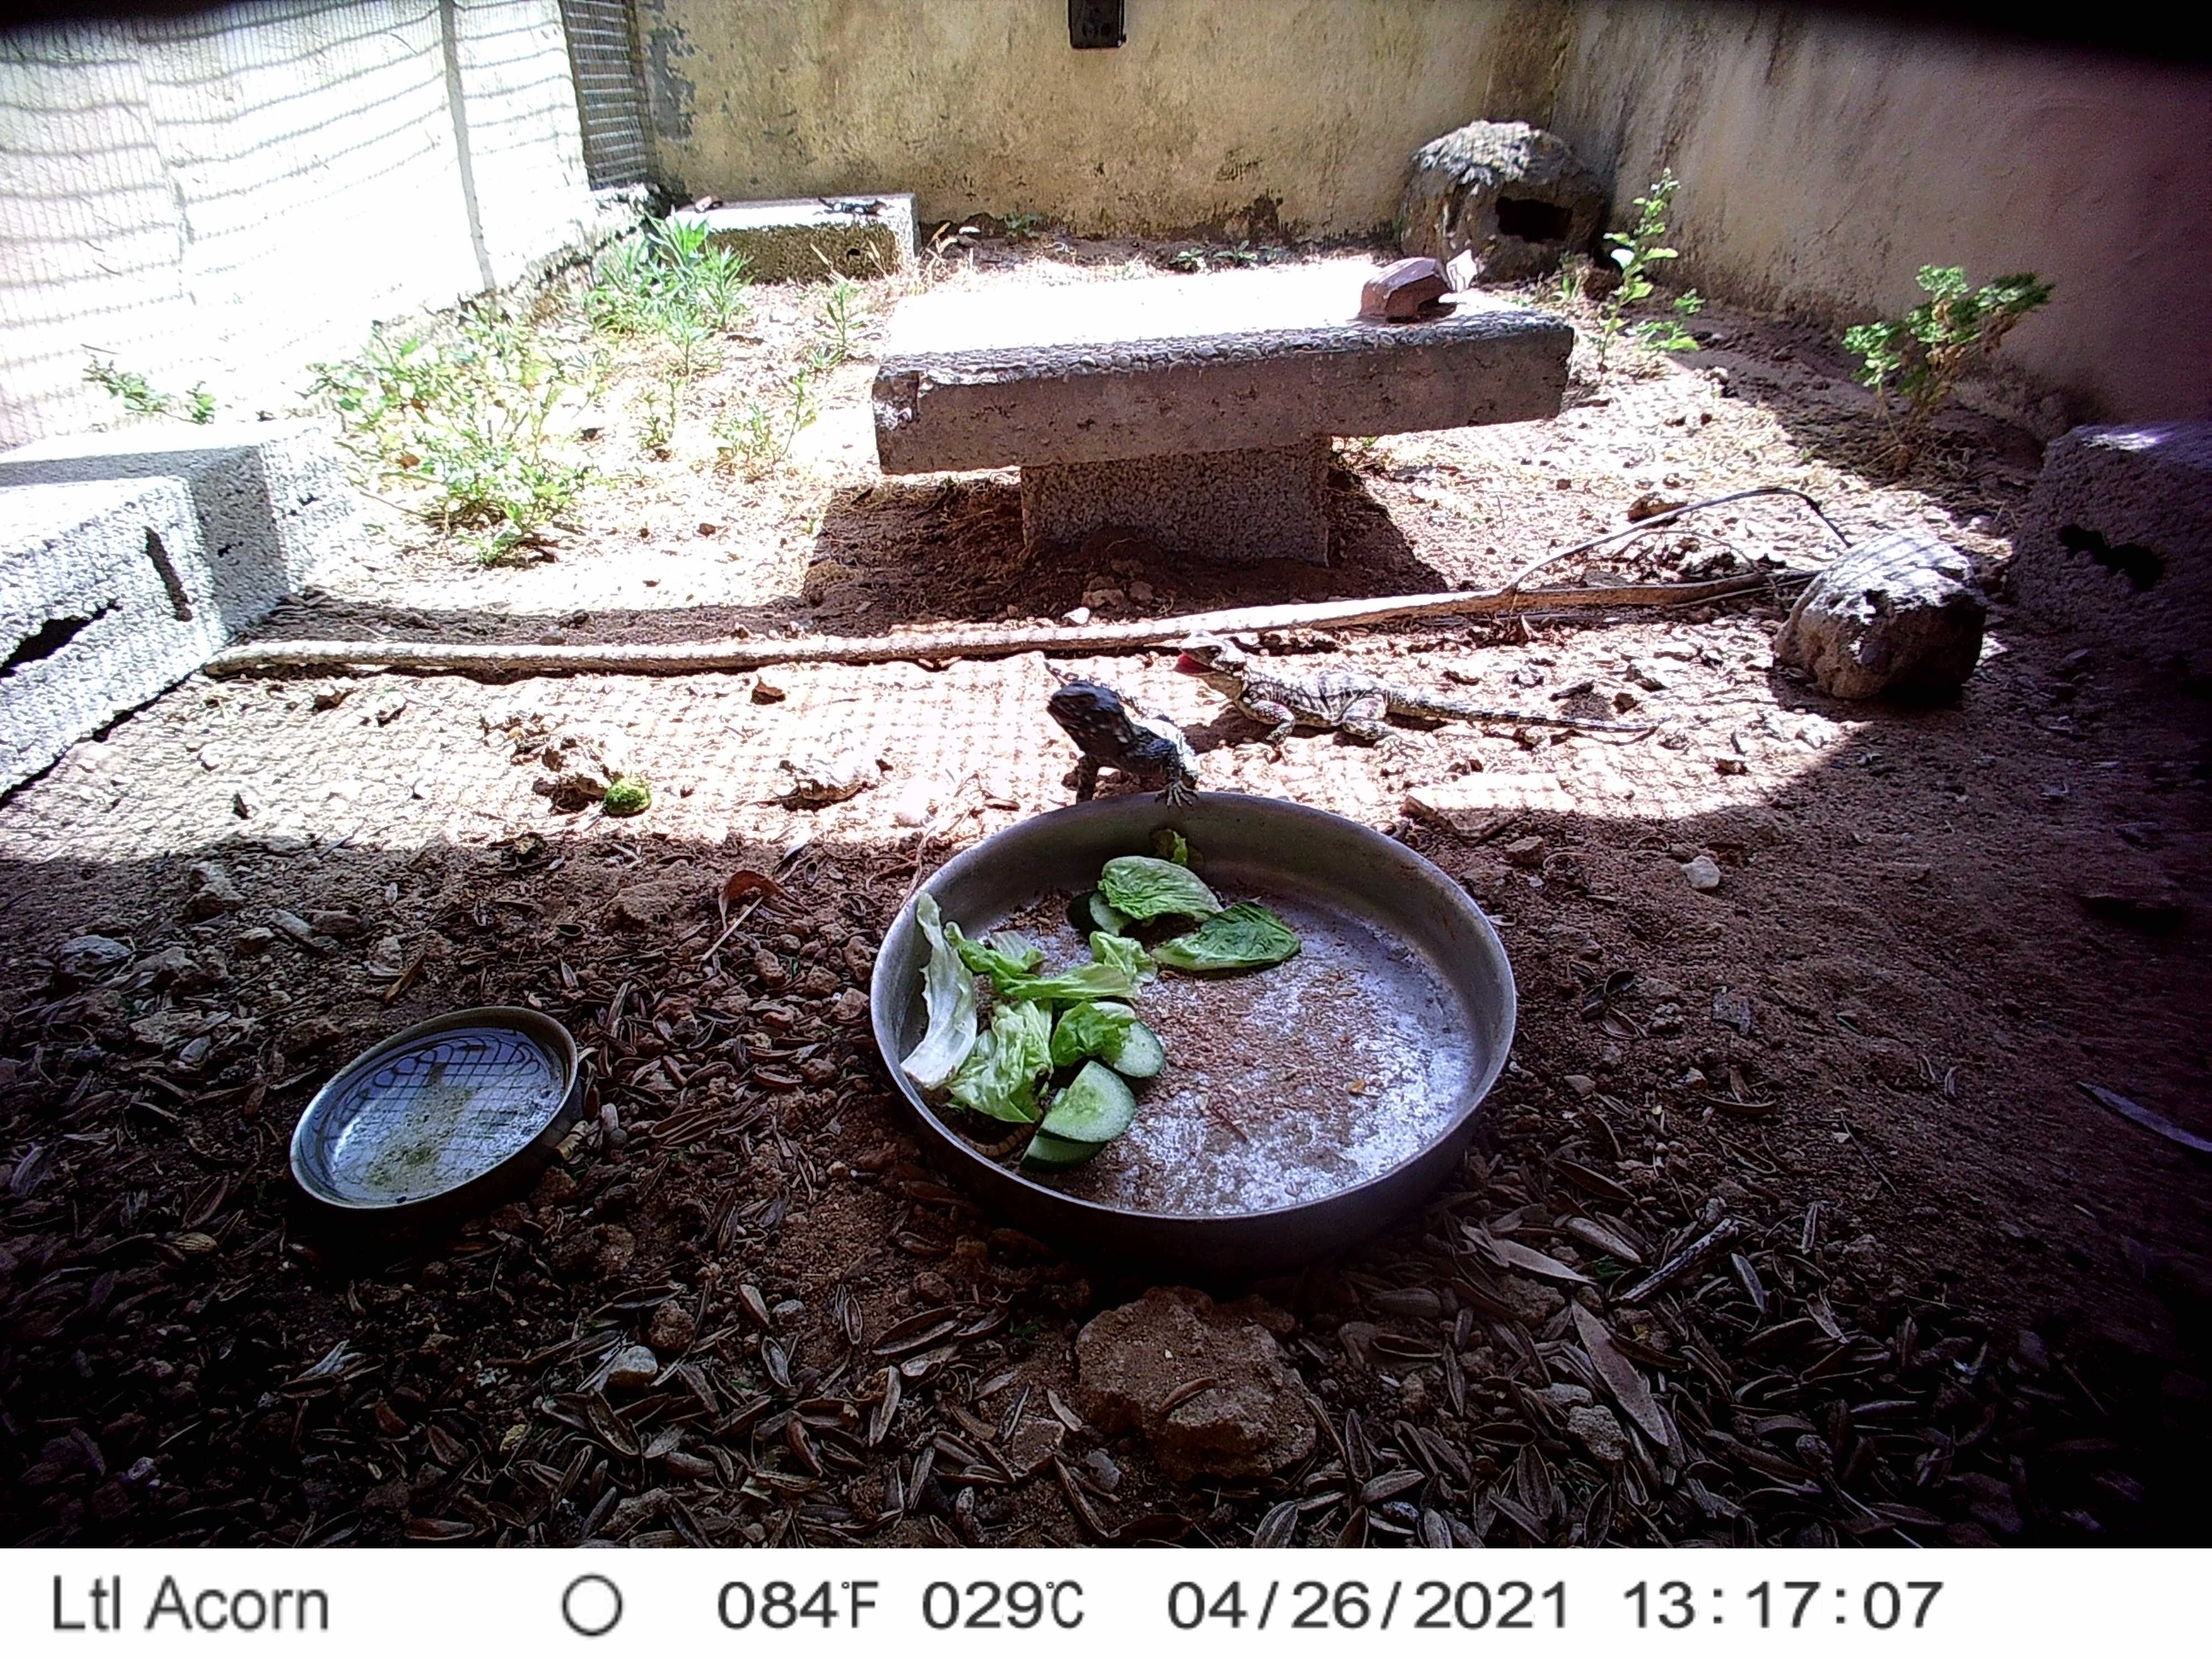lizard: (1183, 627, 1663, 755), (1038, 659, 1197, 803), (817, 192, 892, 220)
